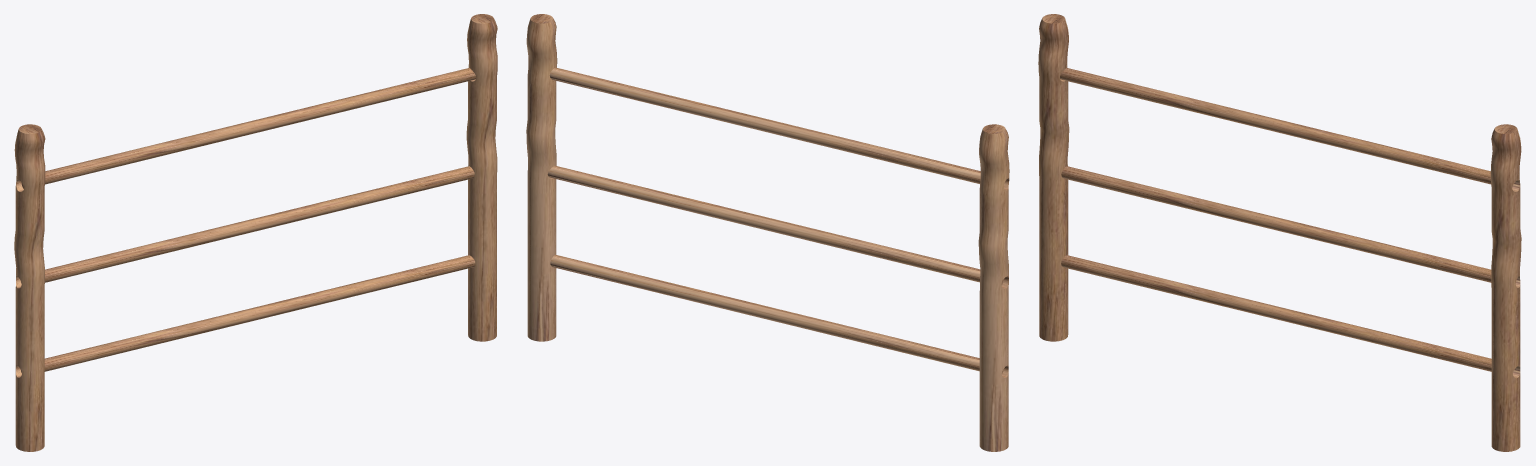
Rendered from fence 1.fbx.
The picture shows the model from 3 angles, left to right: view 1: azimuth 30°, elevation 25°; view 2: azimuth 150°, elevation 25°; view 3: azimuth 330°, elevation 25°; orthographic projection.
Visible parts, largest first — view 1: pasted__pasted__pasted__pasted__pasted__pasted__pasted__past; view 2: pasted__pasted__pasted__pasted__pasted__pasted__pasted__past; view 3: pasted__pasted__pasted__pasted__pasted__pasted__pasted__past.
Boxes of the visible parts, x1=… form: pasted__pasted__pasted__pasted__pasted__pasted__pasted__past: x1=14, y1=14, x2=497, y2=451; pasted__pasted__pasted__pasted__pasted__pasted__pasted__past: x1=526, y1=14, x2=1009, y2=451; pasted__pasted__pasted__pasted__pasted__pasted__pasted__past: x1=1038, y1=14, x2=1521, y2=451.
Size of the model in its own units: 8.04 by 5.09 by 0.4833.
Materials: 1 (1 with a texture image).
